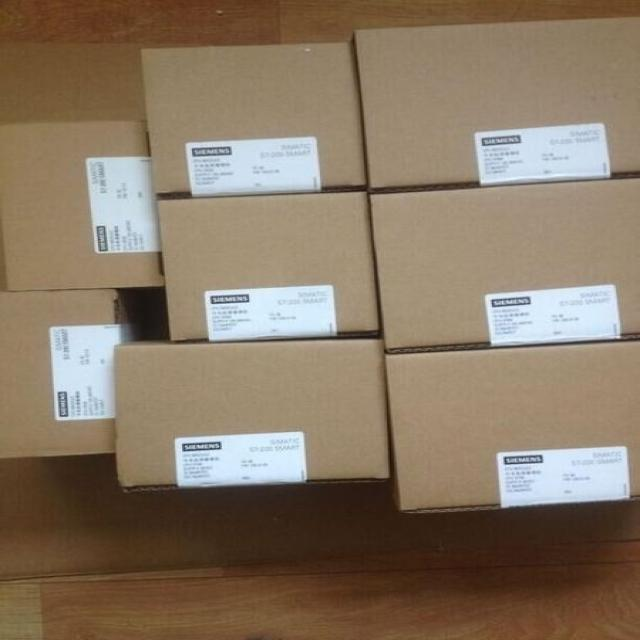box: (355, 15, 639, 188), (366, 178, 639, 352), (385, 337, 639, 512), (113, 337, 391, 491), (5, 41, 166, 292), (155, 188, 382, 341), (143, 41, 368, 195), (1, 287, 129, 460)
